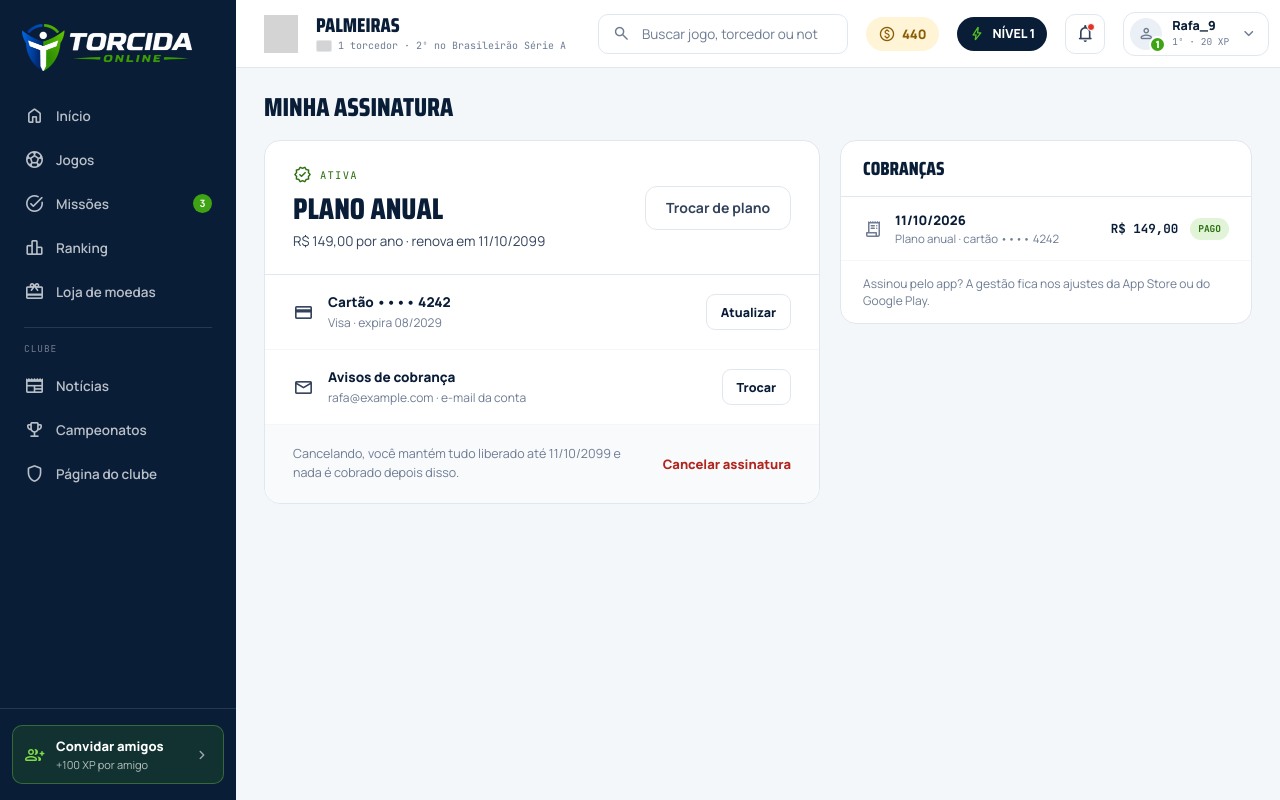
Test case: gestão da assinatura do web app › cancelar pede confirmação, mantém o acesso até a data e permite reativar
The width and height of the screenshot is (1280, 800).
Expected: the text "Cancelando, você mantém tudo liberado até 11/10/2099" is shown, [293,445,644,482]
Click the link "Cancelar assinatura".
click(727, 464)  # box [663,455,791,473]
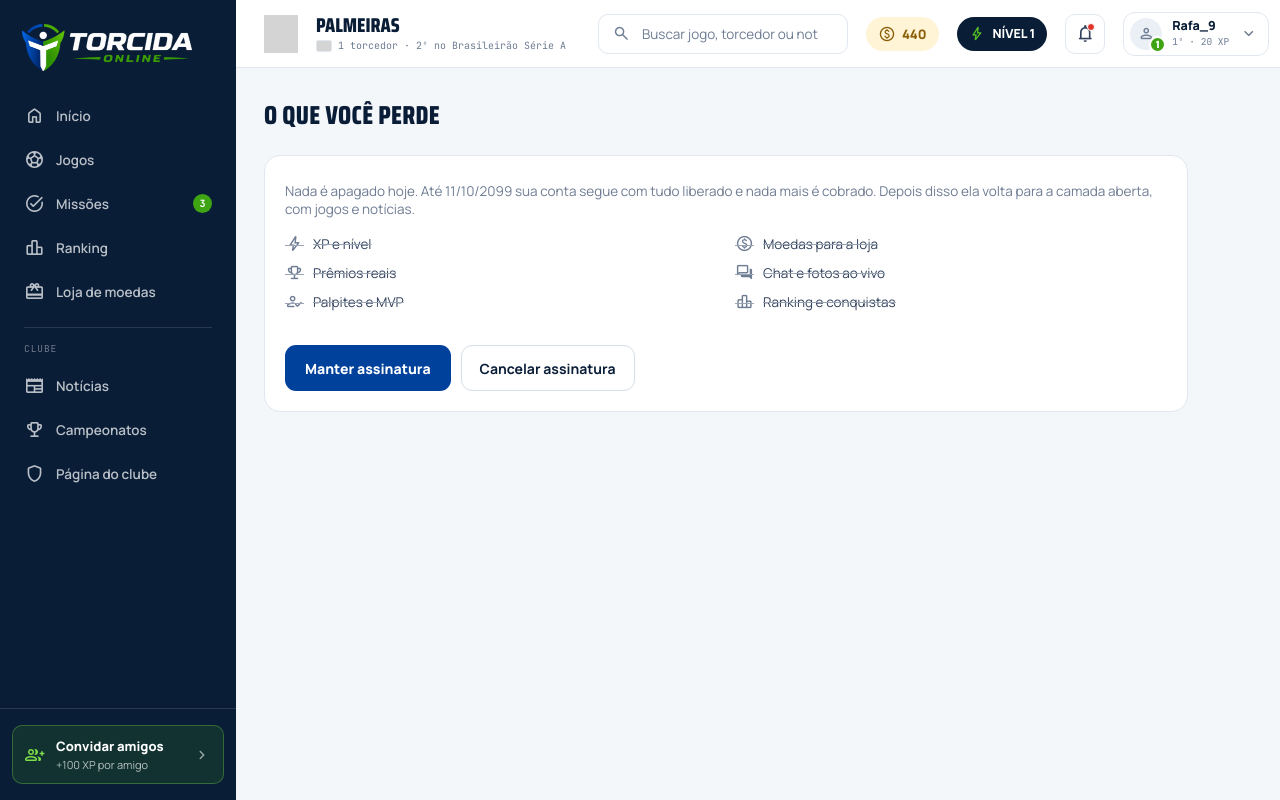
Now the heading "O que você perde" is shown, box [264,94,440,135]
Click the button "Cancelar assinatura".
click(548, 368)  # box [461,345,635,391]
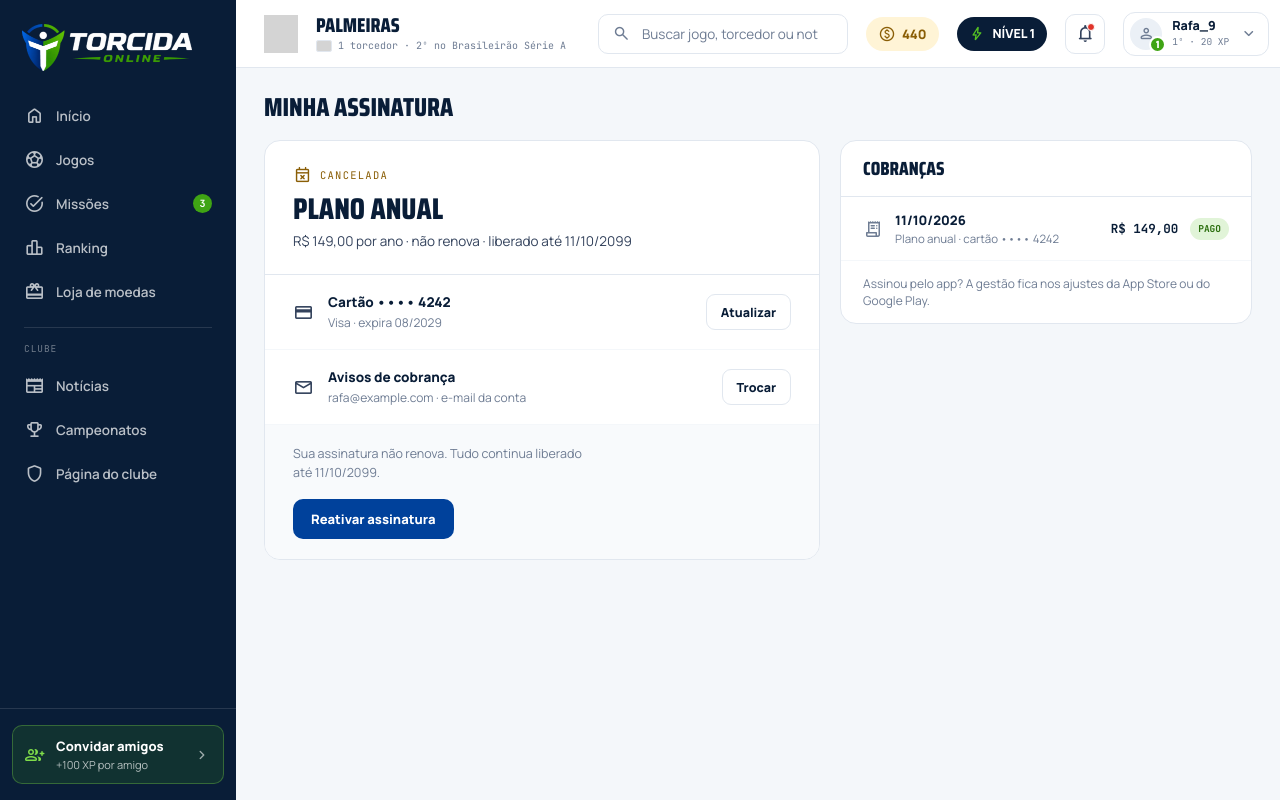
Now the text "CANCELADA" is shown, box [293,163,388,186]
Now the text "R$ 149,00 por ano · não renova · liberado até 11/10/2099" is shown, box [293,232,632,250]
Now the text "Sua assinatura não renova. Tudo continua liberado até 11/10/2099." is shown, box [293,445,582,481]
Click the button "Reativar assinatura".
click(373, 518)  # box [293,498,454,538]
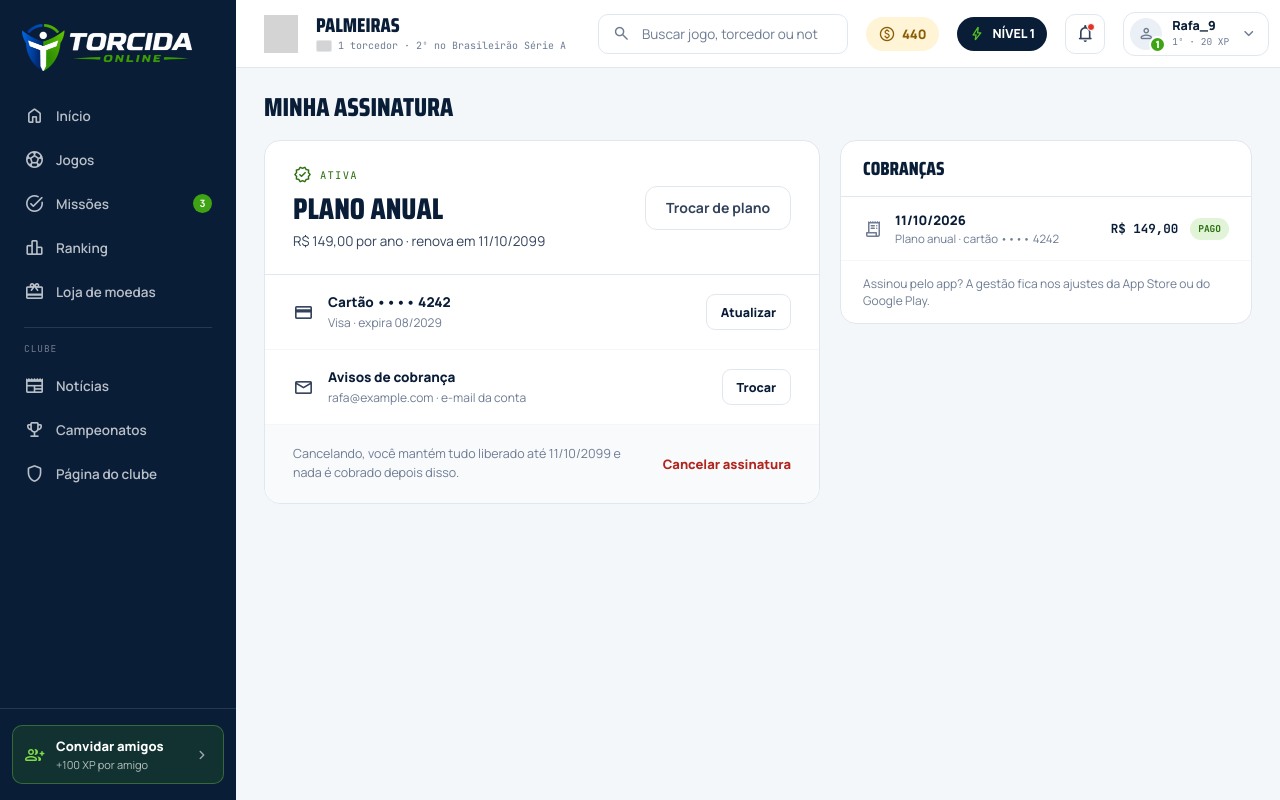
Now the text "ATIVA" is shown, box [293,163,358,186]
